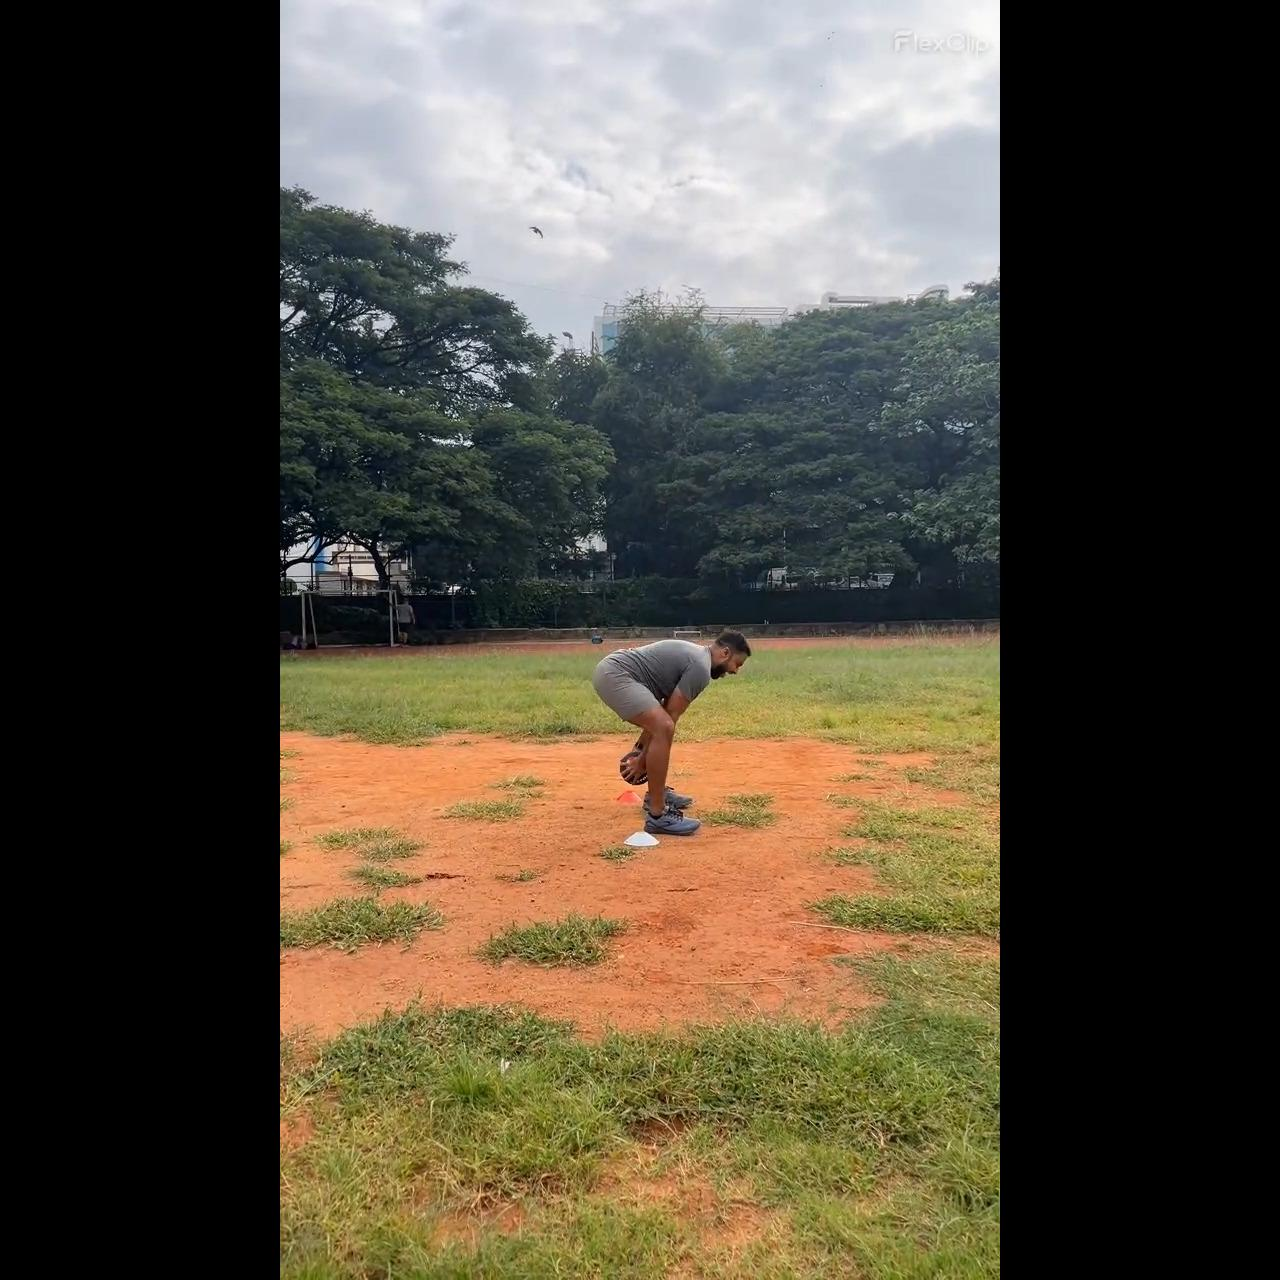Athelete: (590, 617, 749, 837)
